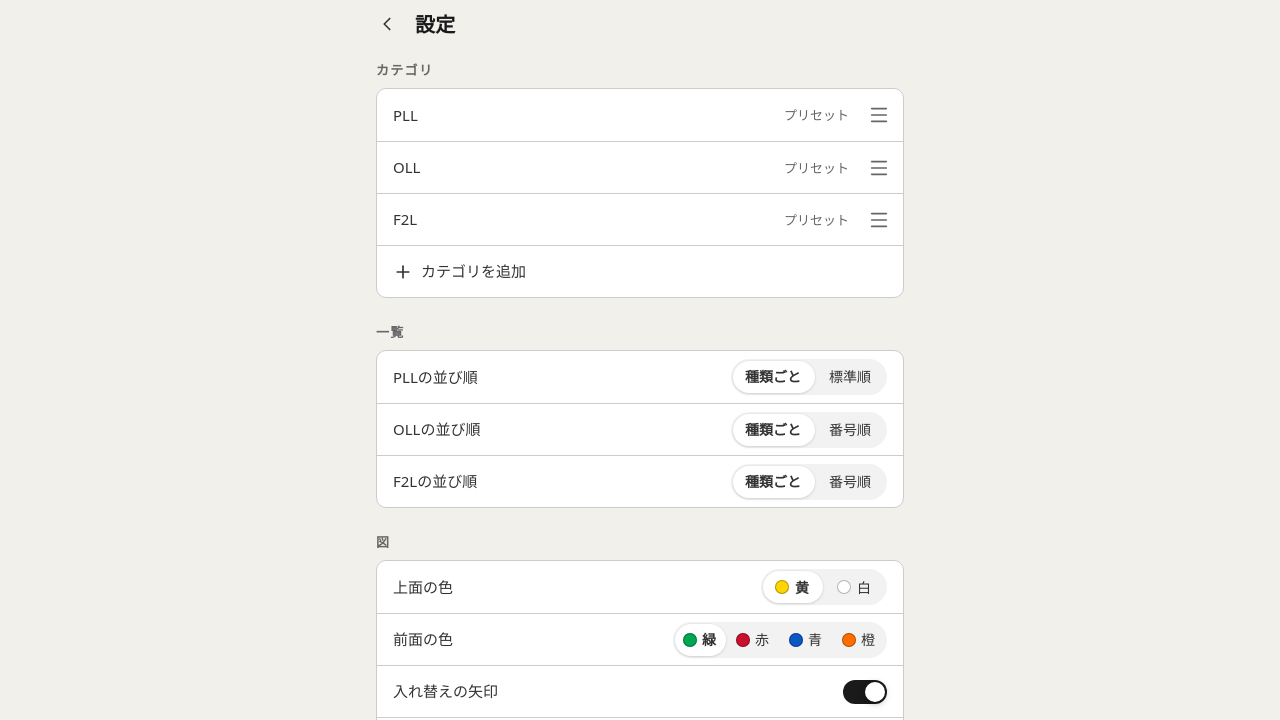
Scenario: SettingsScreen › 同じ名前のカテゴリは追加できない
Click the button "カテゴリを追加". click: coordinates (474, 271)
box: [377, 245, 903, 297]
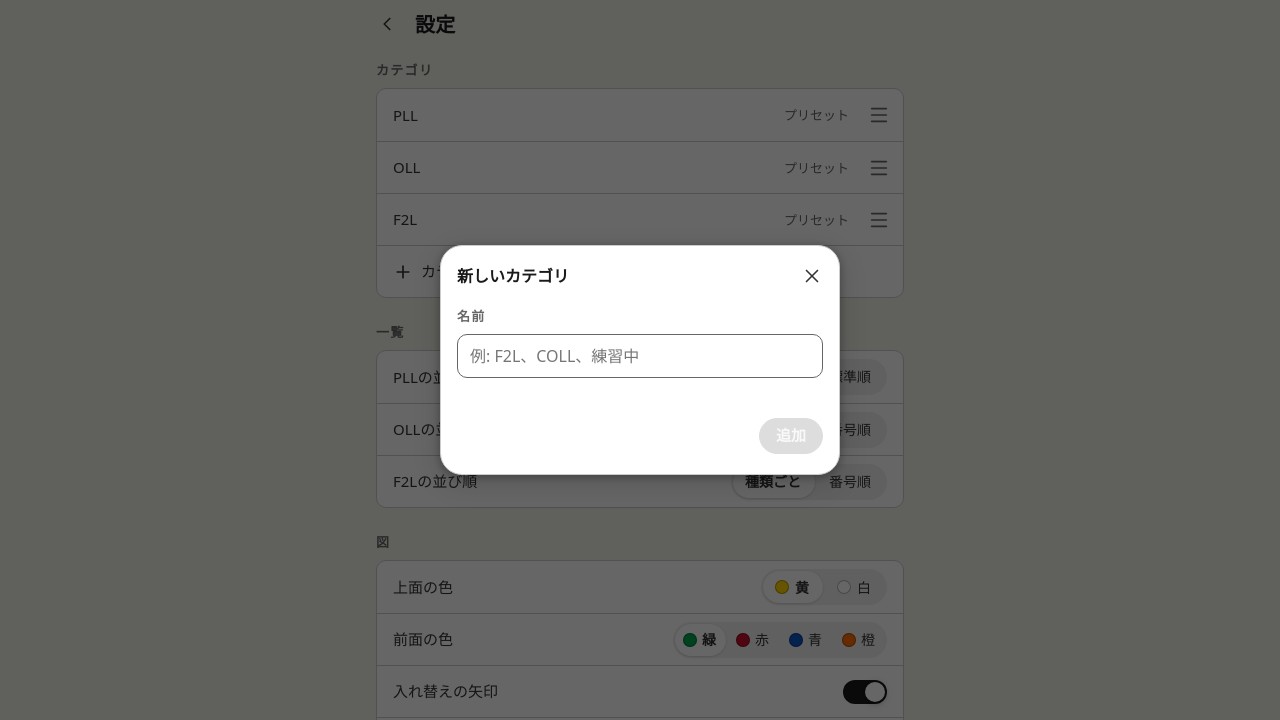
Type "pll" into the field labelled "名前". click: coordinates (640, 356)
box: [457, 334, 823, 378]
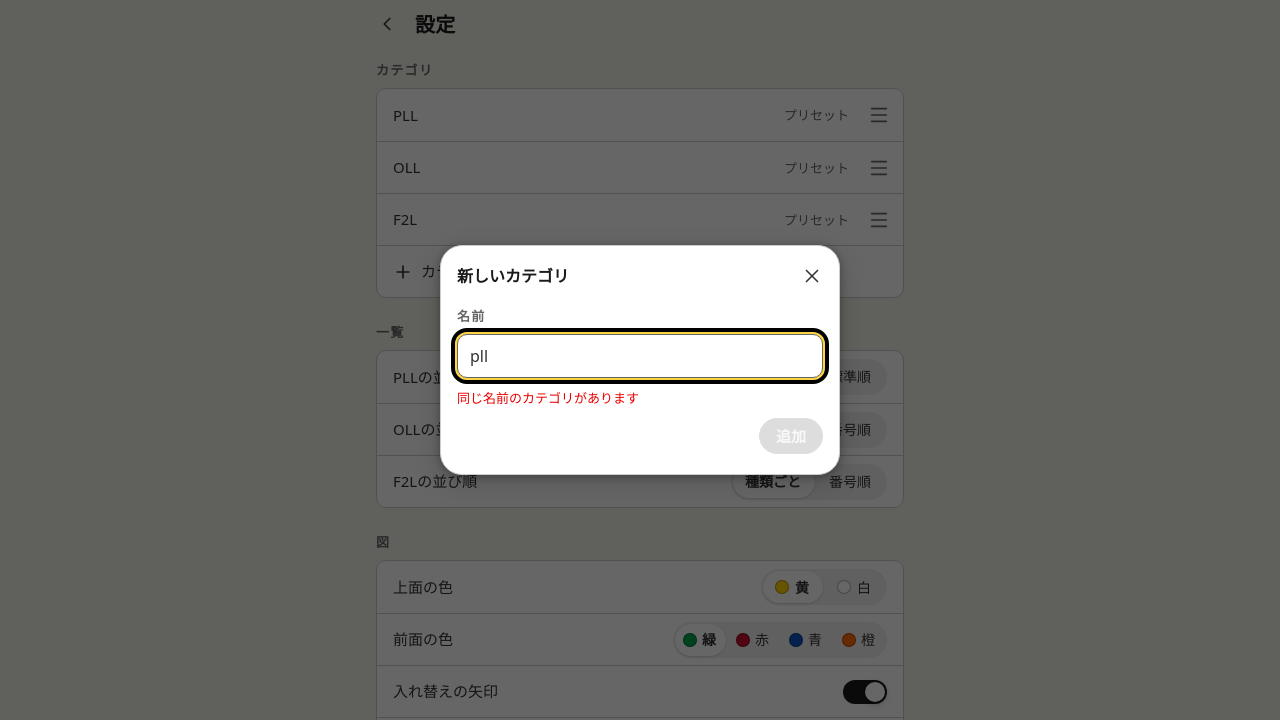
Expected: the button "追加" is disabled, [759, 418, 823, 454]
Expected: the text "同じ名前のカテゴリがあります" is shown, [457, 389, 639, 407]
